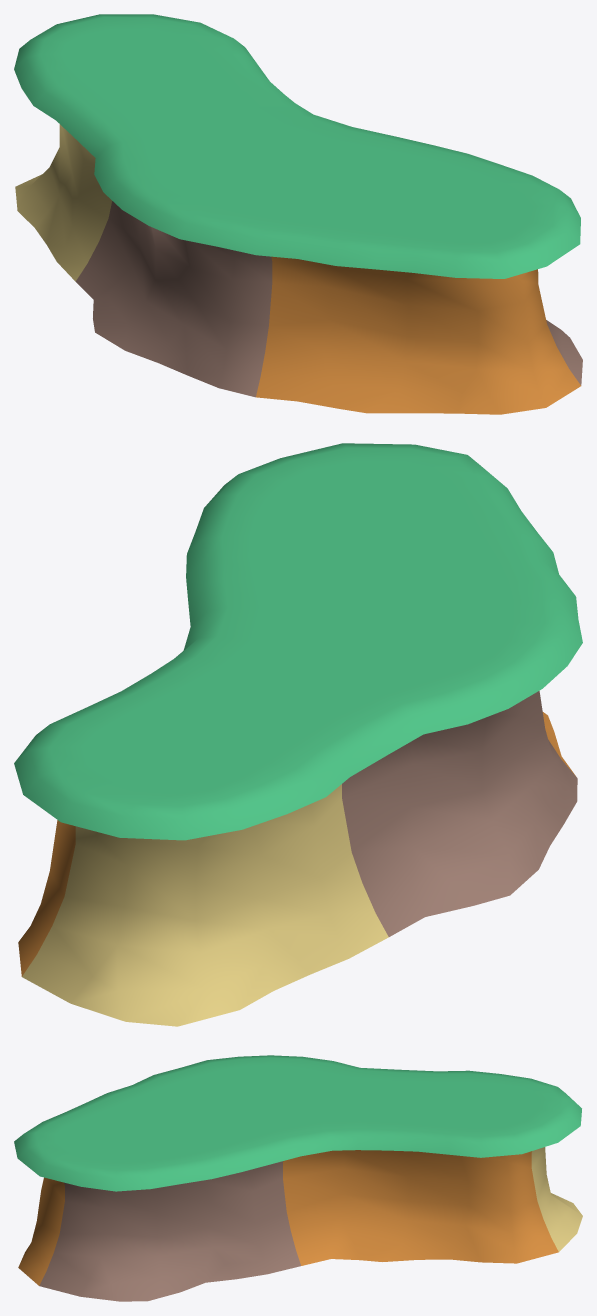
Rendered from Mod_A2_Lm1.fbx.
3 renders of one model, top to bottom at view 1: azimuth 30°, elevation 25°; view 2: azimuth 150°, elevation 25°; view 3: azimuth 270°, elevation 25°, orthographic. The views are drawn at different scales.
Parts seen in each view (by area): view 1: Mod_A2_Lm1; view 2: Mod_A2_Lm1; view 3: Mod_A2_Lm1.
Part boxes in pixels (x1,y1,x2,y2): Mod_A2_Lm1: (14, 14, 582, 414); Mod_A2_Lm1: (14, 443, 582, 1026); Mod_A2_Lm1: (14, 1055, 582, 1301).
Size of the model in its own units: 1040 by 442 by 1890.
